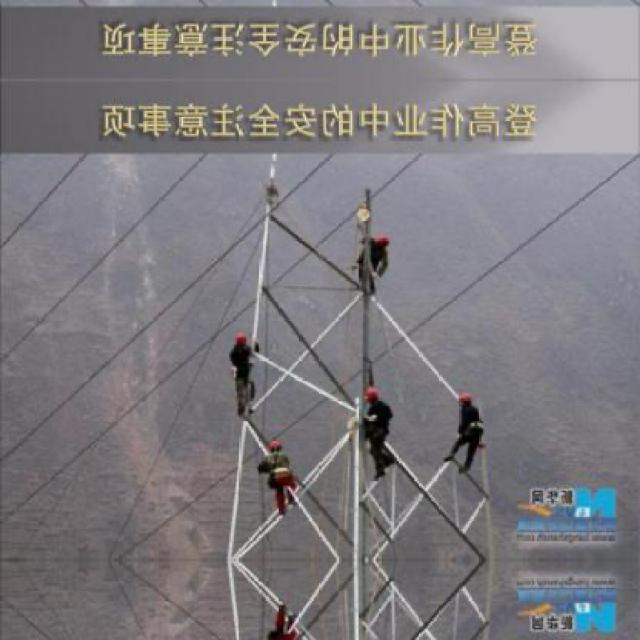con casco: (438, 374, 503, 426), (362, 207, 399, 270)
